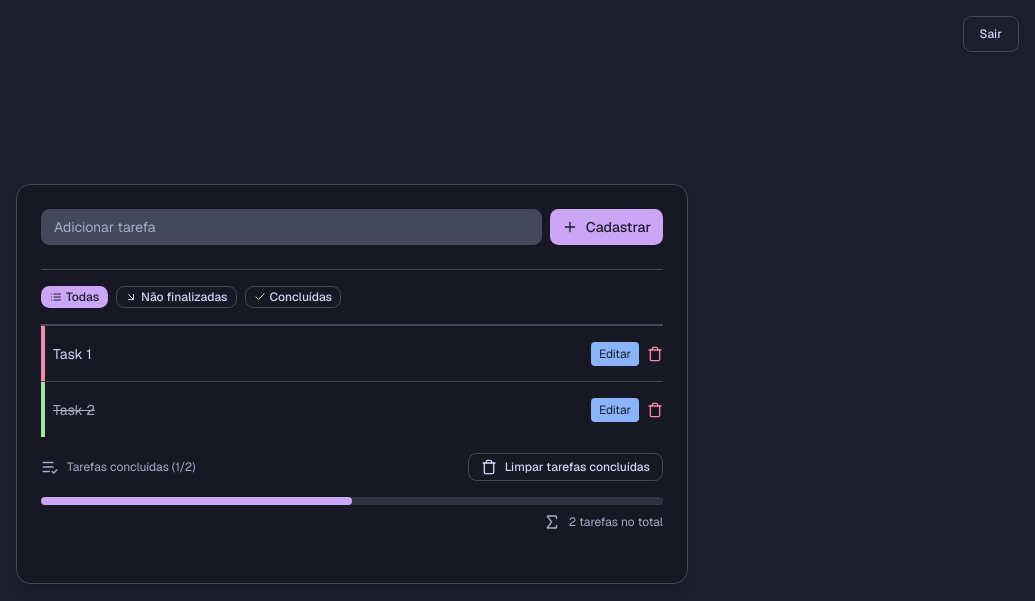
it: TaskPage › filters tasks by status
Expected: the text "Task 1" is shown, left=53, top=344, right=92, bottom=362
Expected: the text "Task 2" is shown, left=53, top=400, right=95, bottom=418
Click the text "Não finalizadas": x=176, y=297 left=116, top=286, right=237, bottom=308
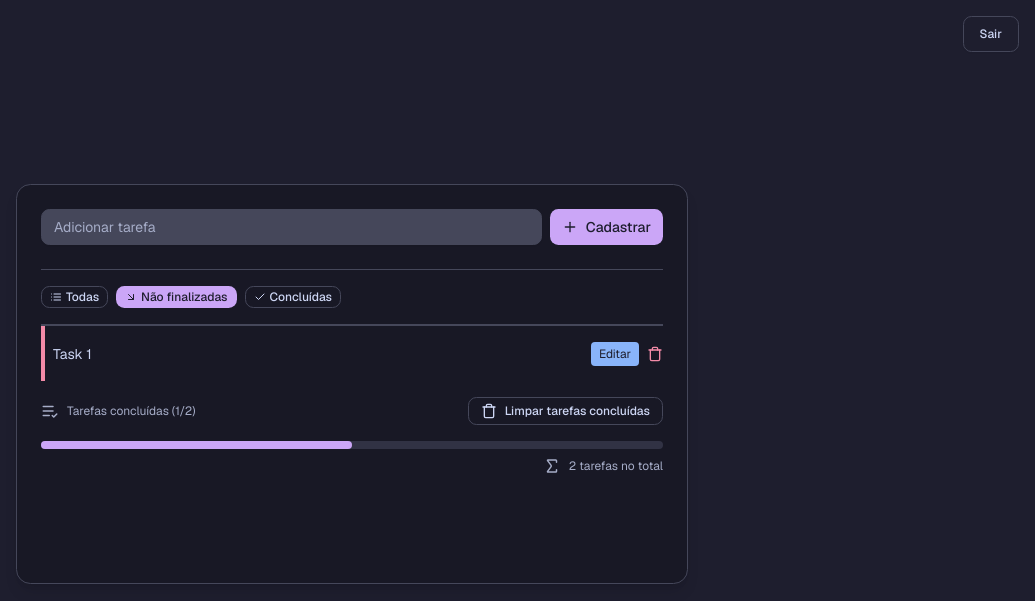
Expected: the text "Task 1" is shown, left=53, top=344, right=92, bottom=362
Expected: the text "Task 2" is gone
